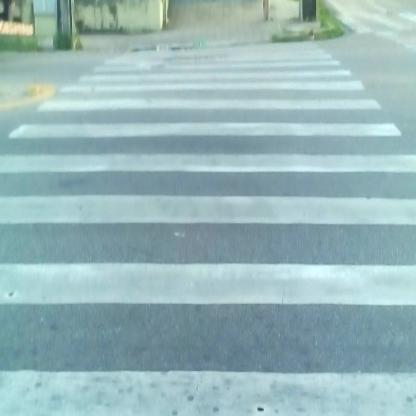crosswalk: (37, 50, 416, 416)
sidewalk: (12, 12, 336, 52)
